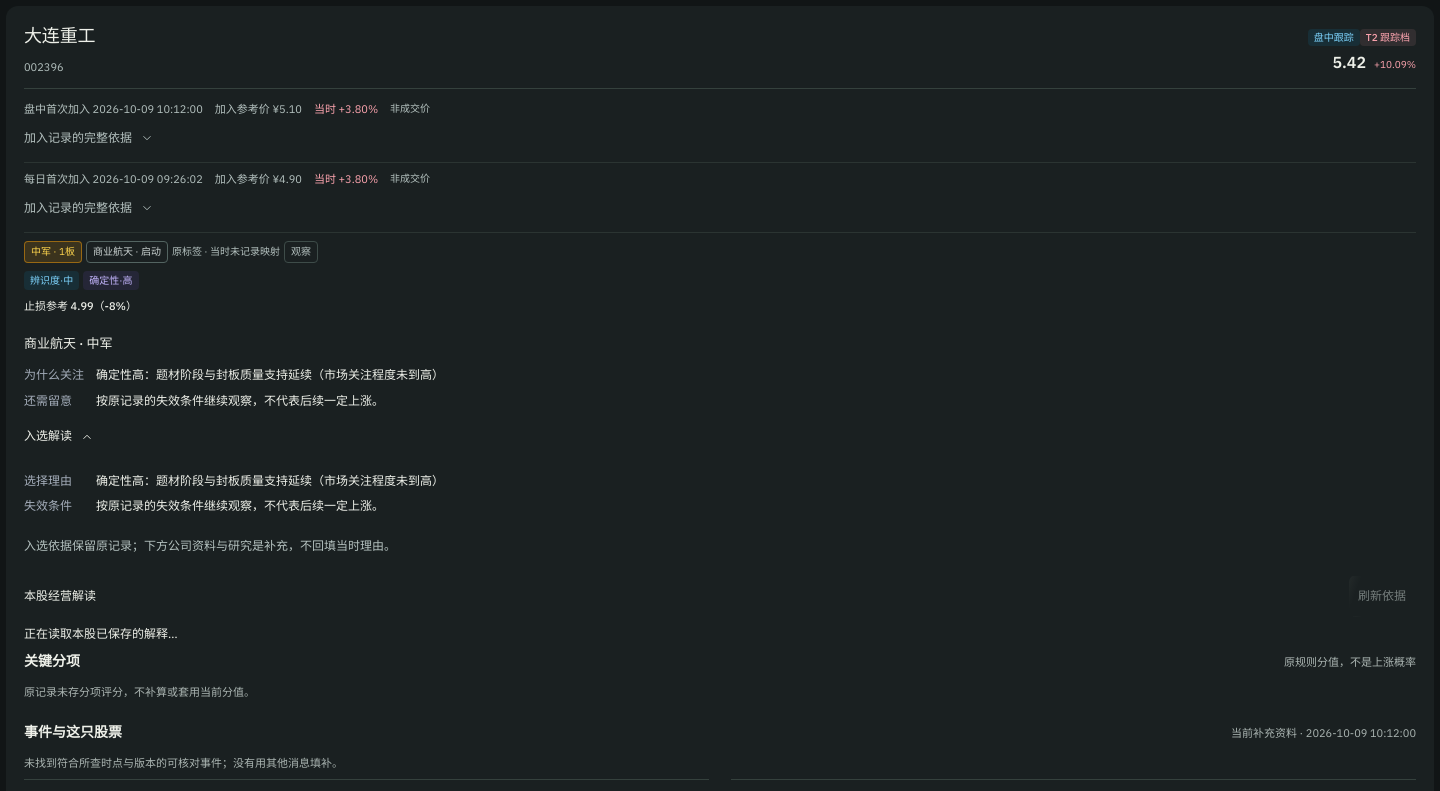
Test: 首次加入记录的来源与参考身份 › keeps daily and intraday entry clocks and prices independent on one overlapping card
expect the element named "盘中首次加入记录" shows "10:12:00": met, box [157,102,203,116]
expect the element named "盘中首次加入记录" shows "¥5.10": met, box [272,102,302,116]
Step 1. Click the button "加入记录的完整依据" below "09:26:02" → click(89, 208), box [24,192,154,224]
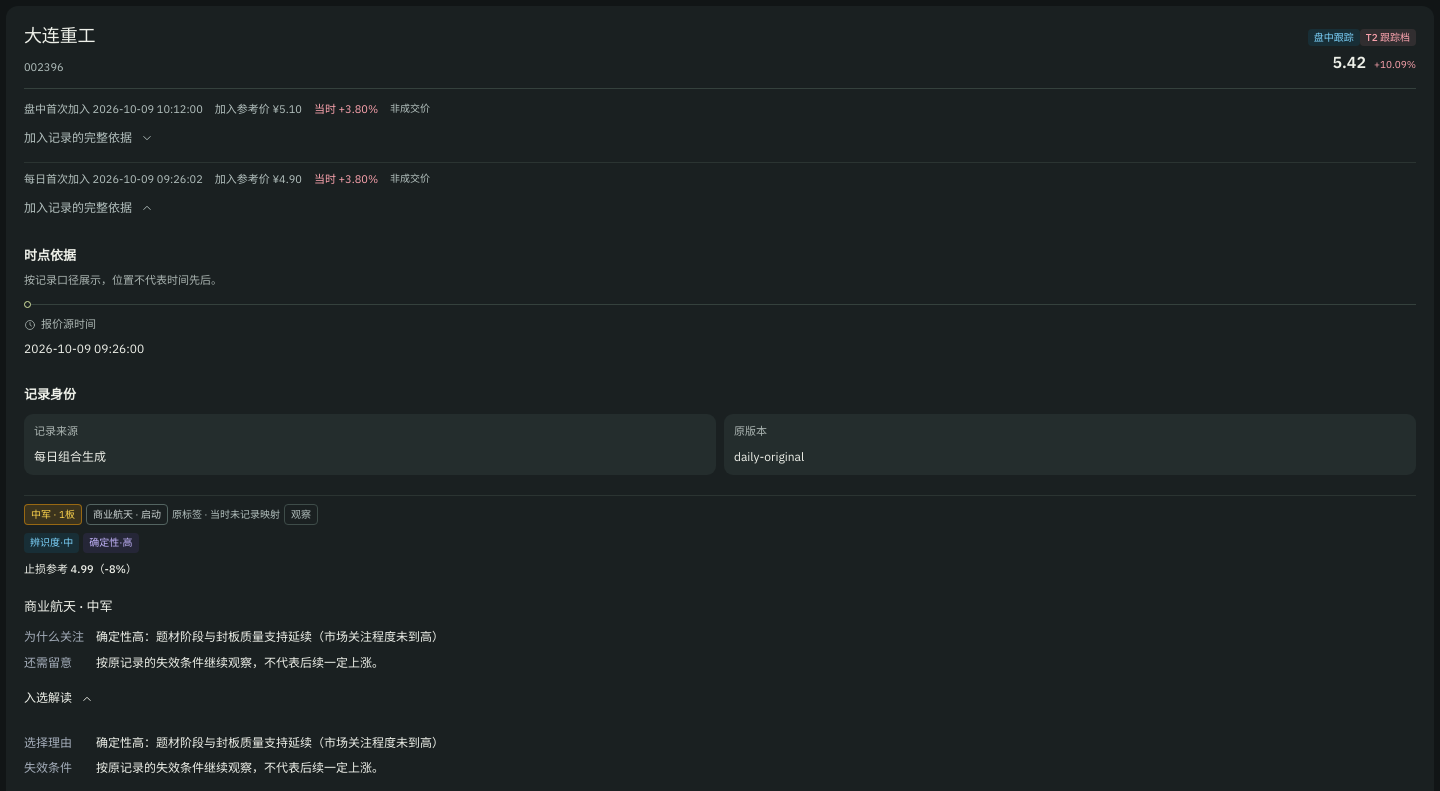
expect the element named "每日首次加入记录" shows "报价源时间": met, box [41,317,96,331]
